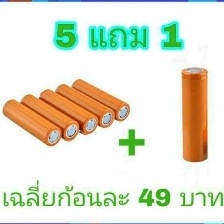battery: (179, 59, 212, 165), (19, 92, 82, 144), (36, 85, 99, 136), (55, 80, 116, 131), (2, 97, 63, 148), (69, 75, 131, 121)
